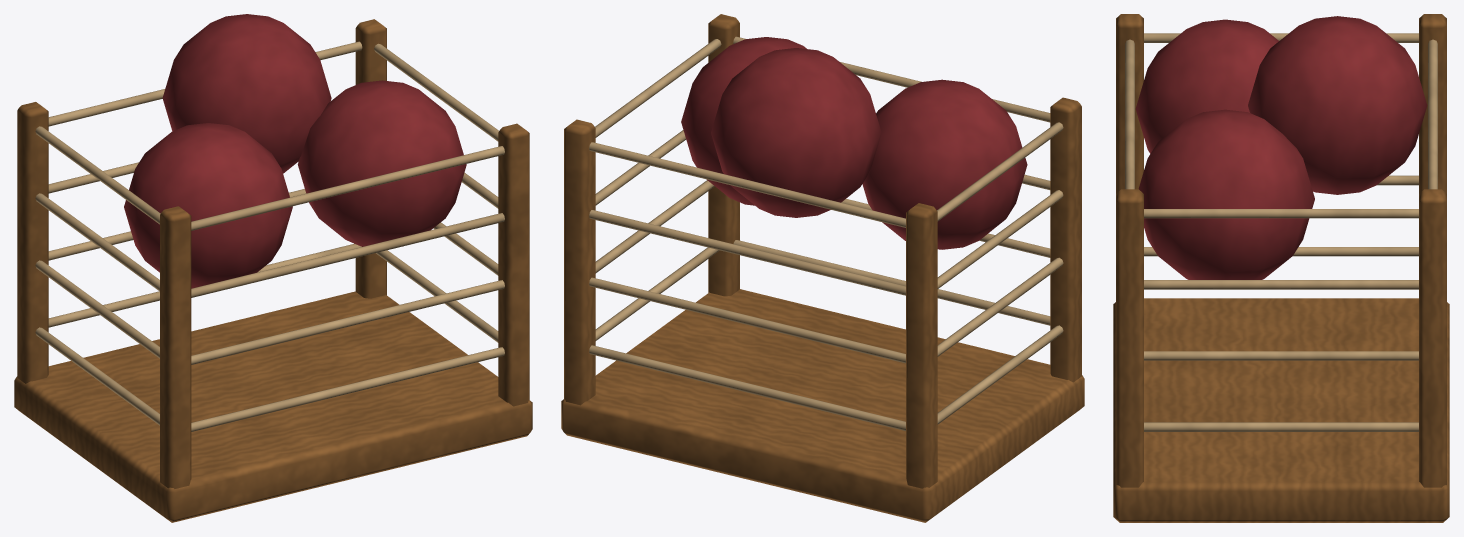
Rendered from Furn_BallBasket.fbx.
The picture shows the model from 3 angles, left to right: view 1: azimuth 30°, elevation 25°; view 2: azimuth 150°, elevation 25°; view 3: azimuth 270°, elevation 25°; orthographic projection. The views are drawn at different scales.
Parts seen in each view (by area): view 1: Furn_BallBasket_Mesh; view 2: Furn_BallBasket_Mesh; view 3: Furn_BallBasket_Mesh.
Part boxes in pixels (left/top/right/bottom): Furn_BallBasket_Mesh: left=14, top=14, right=532, bottom=522; Furn_BallBasket_Mesh: left=561, top=14, right=1084, bottom=522; Furn_BallBasket_Mesh: left=1113, top=14, right=1449, bottom=522.
Bounding box in the file's own units: 0.8 × 0.8 × 0.6.
Materials: 3 (3 with a texture image).
